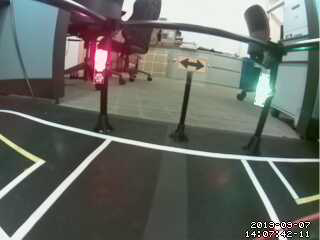Left_Right_sign: (177, 57, 214, 73)
Traffic_light_green: (252, 69, 274, 109)
Traffic_light_red: (94, 47, 107, 84)
